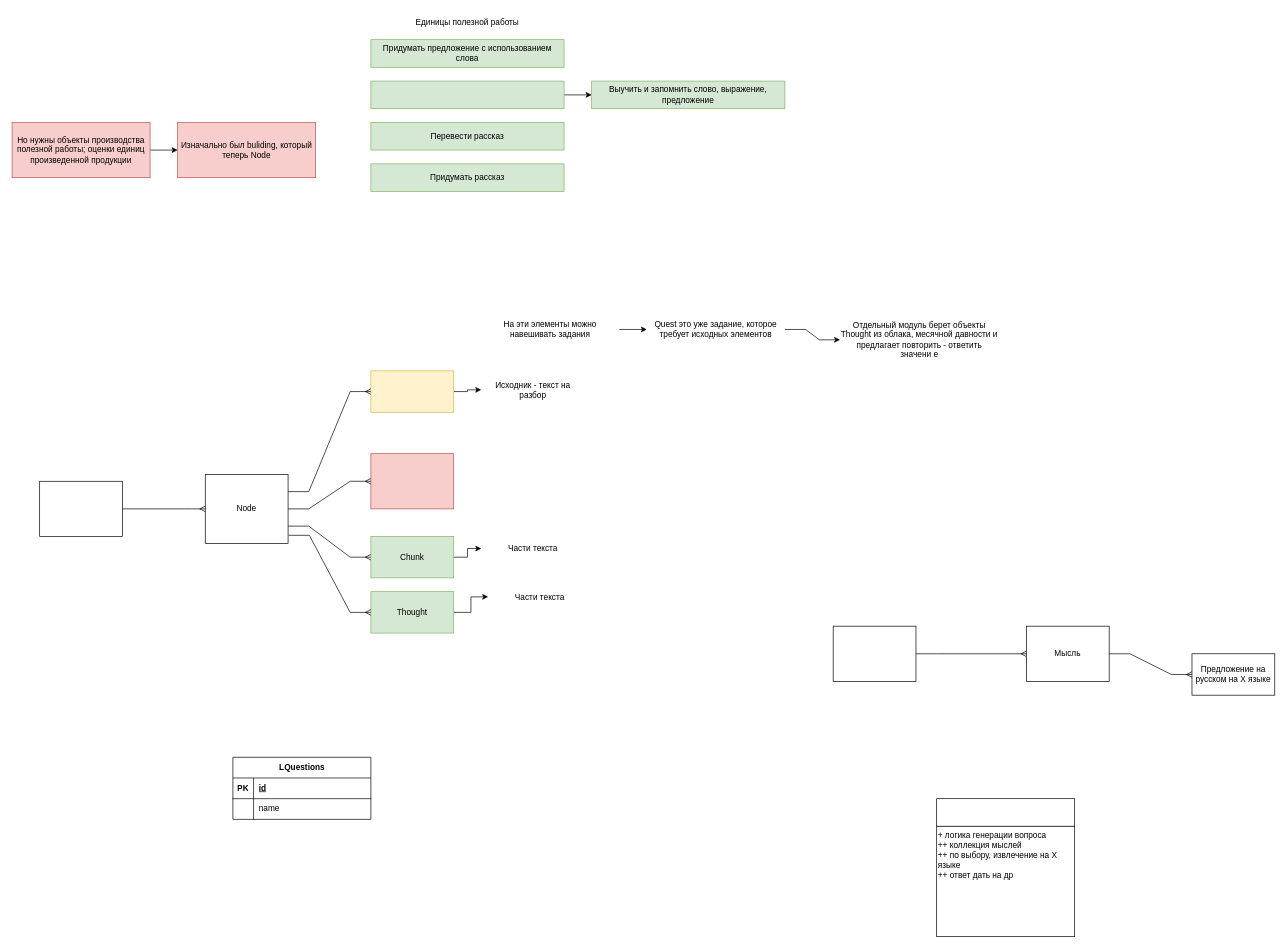
This 1287x949 diagram has some shape labels left out. The centre of each missing label's shape, as x and y in pixels:
"Quest" belongs at point 412,481.
"Terrain" belongs at point 80,508.
"Text" belongs at point 412,391.
"Объект - вопрос (LQuestion)" belongs at point 1005,812.
"Ответить на вопрос, повторить значение" belongs at point 467,94.
"Слово" belongs at point 874,653.
